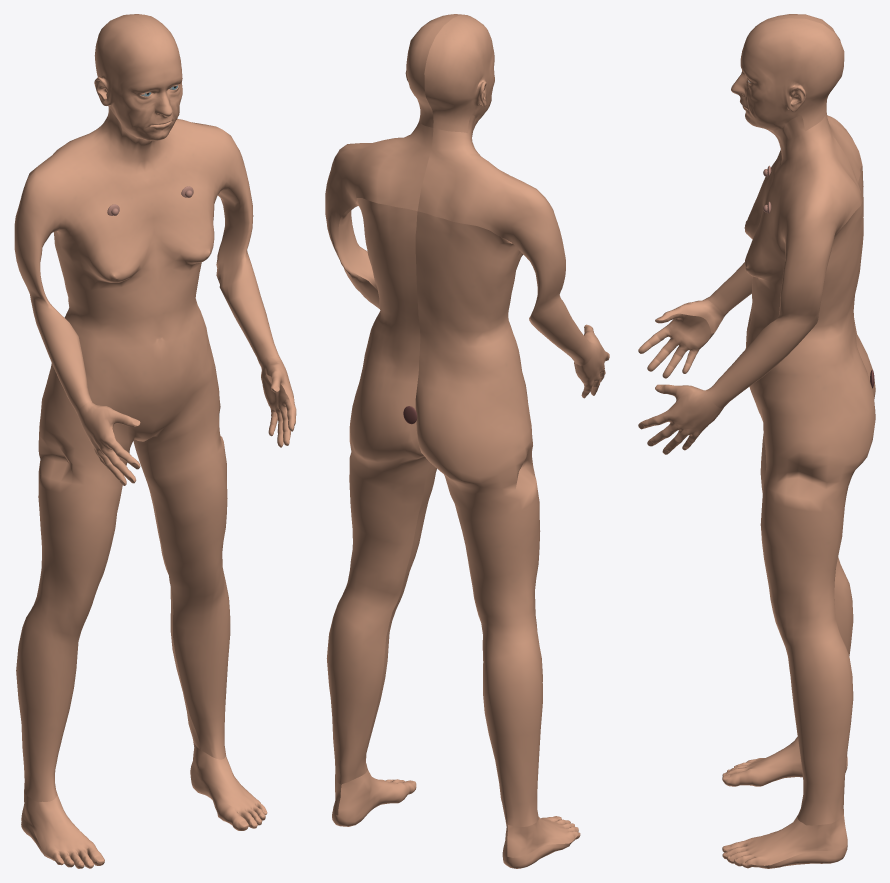
File: body-hochbetagt-divers-real-v3.glb
3 renders of one model, left to right at view 1: azimuth 30°, elevation 25°; view 2: azimuth 150°, elevation 25°; view 3: azimuth 270°, elevation 25°, orthographic.
Visible parts, largest first — view 1: real-human-body; view 2: real-human-body; view 3: real-human-body.
Boxes of the visible parts, bbox=[...] form: real-human-body: bbox=[14, 14, 296, 868]; real-human-body: bbox=[325, 14, 609, 868]; real-human-body: bbox=[638, 14, 875, 868].
Size of the model in its own units: 0.4733 by 1.59 by 0.4269.
7 materials, 1 textured.
